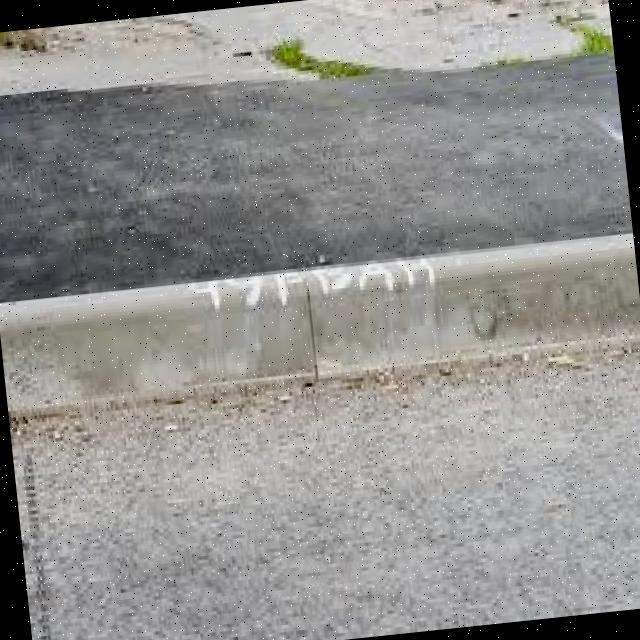curb: (1, 226, 640, 422)
